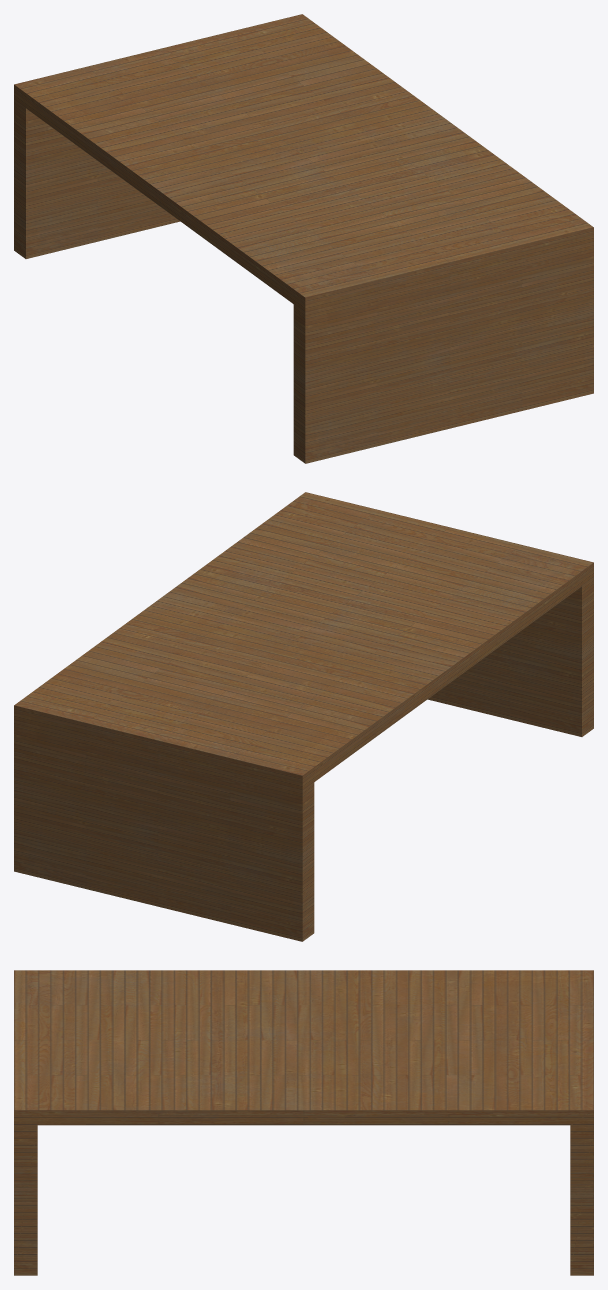
The model's file is mesaDeCentro.fbx.
3 views of the same model, one above another, from view 1: azimuth 30°, elevation 25°; view 2: azimuth 150°, elevation 25°; view 3: azimuth 270°, elevation 25° (orthographic).
Parts seen in each view (by area): view 1: Box001; view 2: Box001; view 3: Box001.
Part boxes in pixels (x1,y1,x2,y2): Box001: (14, 14, 593, 463); Box001: (14, 492, 593, 941); Box001: (14, 970, 593, 1275).
Bounding box in the file's own units: 40 × 22 × 70.
